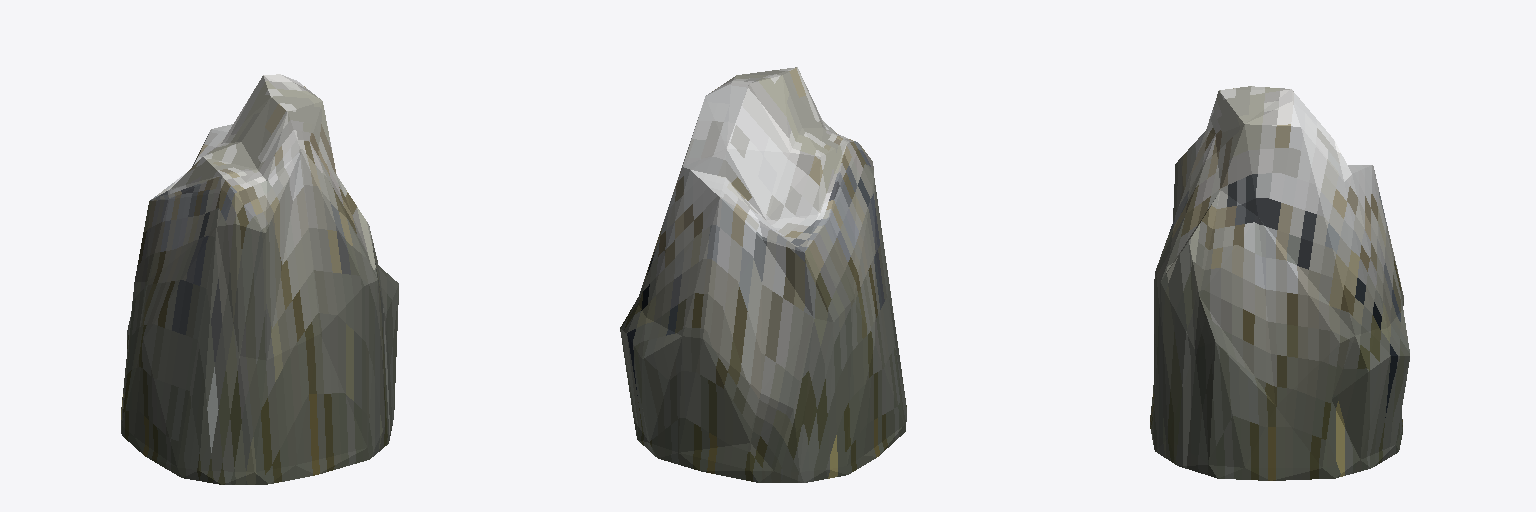
The picture shows the model from 3 angles: view 1: azimuth 30°, elevation 25°; view 2: azimuth 150°, elevation 25°; view 3: azimuth 270°, elevation 25°; orthographic projection.
Parts seen in each view (by area): view 1: Cube; view 2: Cube; view 3: Cube.
Boxes of the visible parts, x1=… form: Cube: x1=121, y1=74, x2=398, y2=484; Cube: x1=620, y1=67, x2=906, y2=482; Cube: x1=1150, y1=86, x2=1409, y2=480.
Bounding box in the file's own units: 0.969 × 1.45 × 0.9866.
Materials: 1 (1 with a texture image).